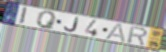4: (83, 18, 98, 38)
A: (104, 23, 127, 44)
I: (18, 6, 29, 26)
J: (64, 16, 81, 33)
Q: (36, 11, 58, 31)
R: (126, 25, 149, 47)
